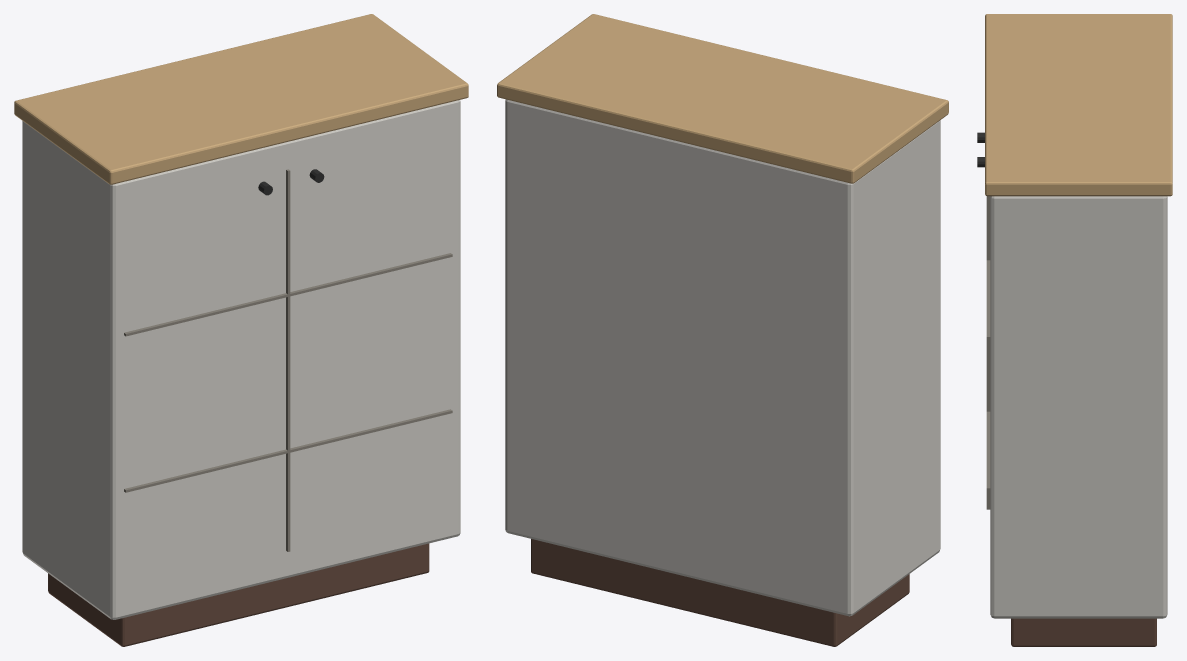
File: coatsCloset.glb
3 views of the same model, side by side, from view 1: azimuth 30°, elevation 25°; view 2: azimuth 150°, elevation 25°; view 3: azimuth 270°, elevation 25° (orthographic). The views are drawn at different scales.
Visible parts, largest first — view 1: body.004, top.004, plinth.002, vSeam, hSeam2, hSeam1; view 2: body.004, top.004, plinth.002; view 3: body.004, top.004, plinth.002, vSeam, hSeam1, hSeam2.
Part boxes in pixels (bbox=[...]): body.004: bbox=[22, 100, 460, 619]; top.004: bbox=[14, 14, 468, 184]; plinth.002: bbox=[48, 543, 429, 646]; vSeam: bbox=[286, 169, 290, 551]; hSeam2: bbox=[124, 253, 452, 336]; hSeam1: bbox=[124, 409, 452, 492]; body.004: bbox=[505, 99, 940, 616]; top.004: bbox=[497, 14, 948, 183]; plinth.002: bbox=[531, 539, 909, 646]; body.004: bbox=[990, 196, 1167, 618]; top.004: bbox=[985, 14, 1172, 196]; plinth.002: bbox=[1011, 618, 1156, 646]; vSeam: bbox=[986, 196, 990, 509]; hSeam1: bbox=[986, 411, 990, 490]; hSeam2: bbox=[986, 260, 990, 339].
Size of the model in its own units: 0.77 by 1.01 by 0.375.
